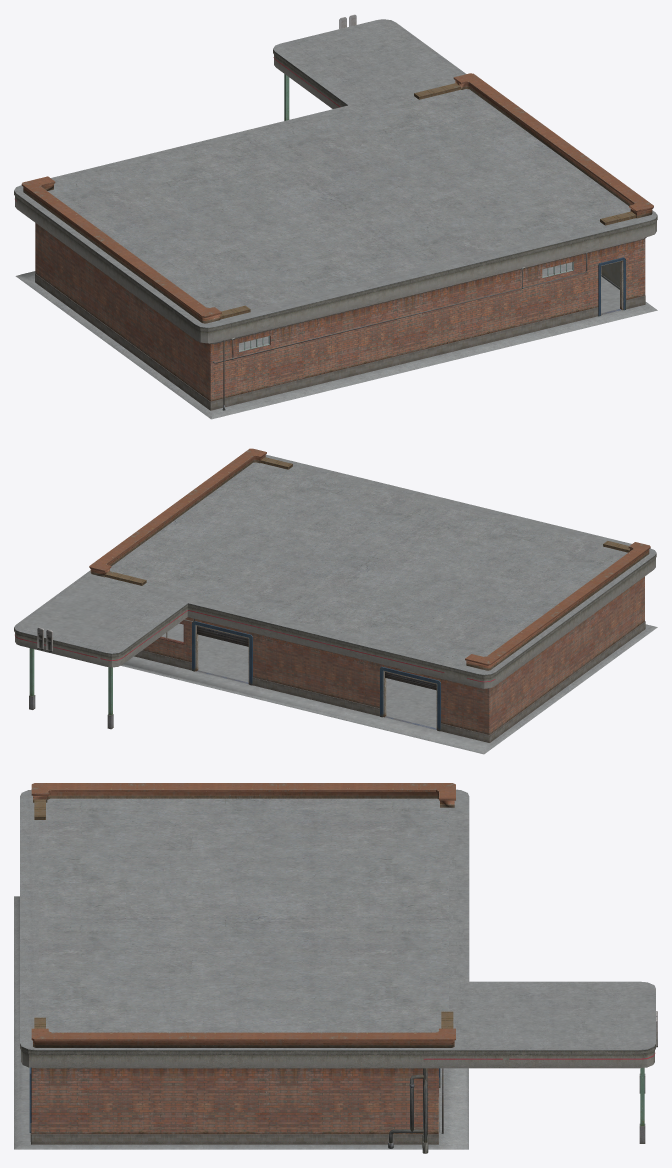
Rendered from Building_WestGasStation001.glb.
3 views of the same model, one above another, from view 1: azimuth 30°, elevation 25°; view 2: azimuth 150°, elevation 25°; view 3: azimuth 270°, elevation 25° (orthographic). The views are drawn at different scales.
Visible parts, largest first — view 1: West_gas_station_001_0; view 2: West_gas_station_001_0; view 3: West_gas_station_001_0.
Boxes of the visible parts, x1,y1,x2,y2 form: West_gas_station_001_0: (14,14,657,419); West_gas_station_001_0: (14,448,657,754); West_gas_station_001_0: (14,783,657,1153).
Bounding box in the file's own units: 31.39 × 6.46 × 32.61.
2 materials, 2 textured.
